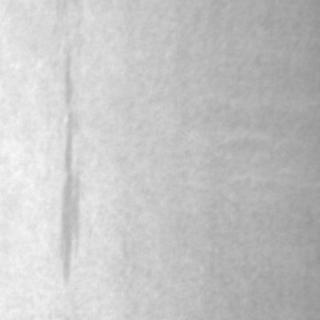inclusion: (48, 35, 92, 292)
